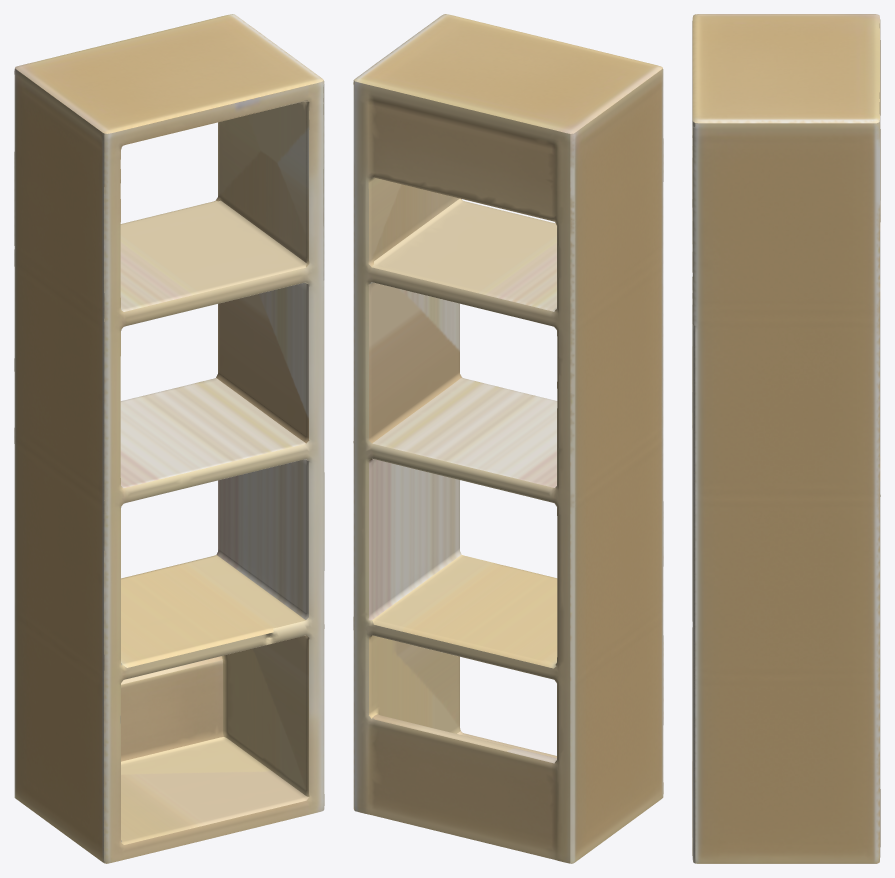
The model's file is shelf__shelf#3.glb.
The picture shows the model from 3 angles, left to right: view 1: azimuth 30°, elevation 25°; view 2: azimuth 150°, elevation 25°; view 3: azimuth 270°, elevation 25°; orthographic projection.
Visible parts, largest first — view 1: tmp36otbvn4.ply; view 2: tmp36otbvn4.ply; view 3: tmp36otbvn4.ply.
Boxes of the visible parts, bbox=[...] form: tmp36otbvn4.ply: bbox=[14, 14, 324, 863]; tmp36otbvn4.ply: bbox=[353, 14, 663, 863]; tmp36otbvn4.ply: bbox=[692, 14, 880, 863].
Bounding box in the file's own units: 0.6279 × 1.99 × 0.4568.
Materials: 1 (1 with a texture image).
